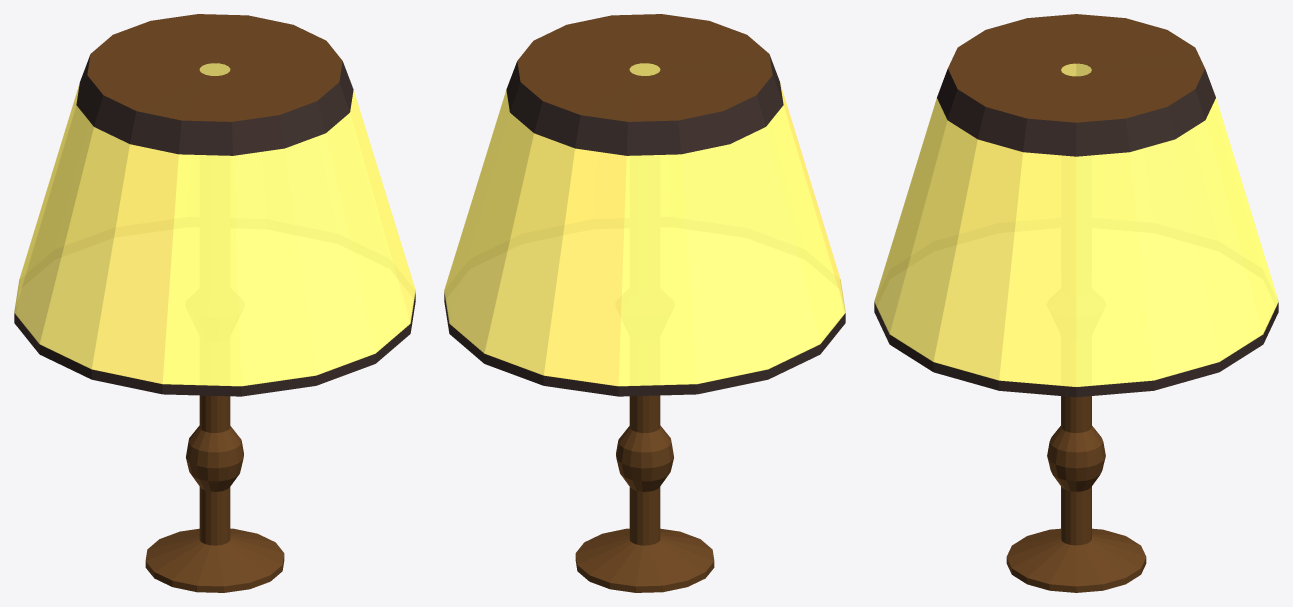
The model's file is lampara_mesita.fbx.
3 views of the same model, side by side, from view 1: azimuth 30°, elevation 25°; view 2: azimuth 150°, elevation 25°; view 3: azimuth 270°, elevation 25° (orthographic).
Visible parts, largest first — view 1: Cylinder; view 2: Cylinder; view 3: Cylinder.
Part boxes in pixels (<box>): Cylinder: <box>14,14,415,592</box>; Cylinder: <box>444,14,845,592</box>; Cylinder: <box>874,14,1278,592</box>.
Size of the model in its own units: 40 by 54 by 40.
